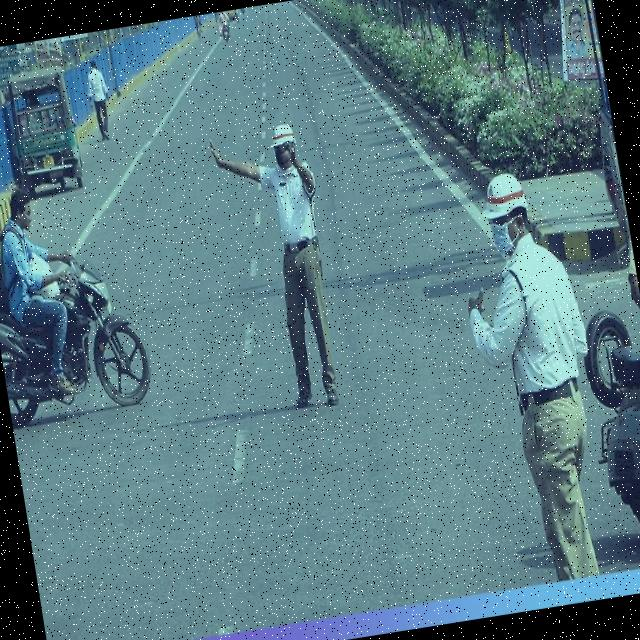No helmet: (0, 172, 49, 237)
